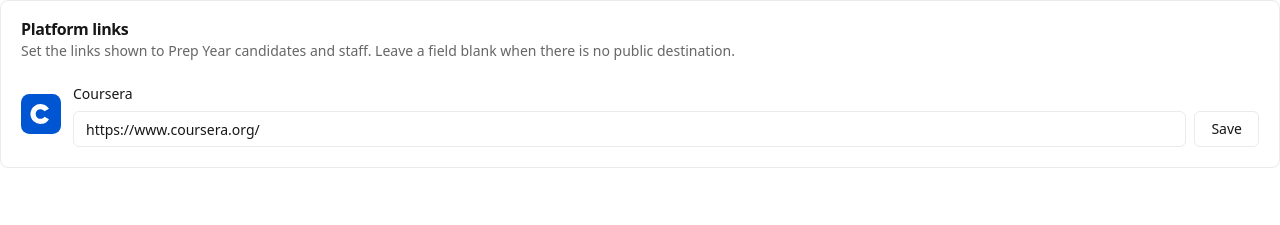
Test case: PlatformLinksEditor › lets a staff admin update a platform link
Replace the text in the field labelled "Coursera" with "https://learn.example.org/" at (630, 129), box [73,111,1186,147]
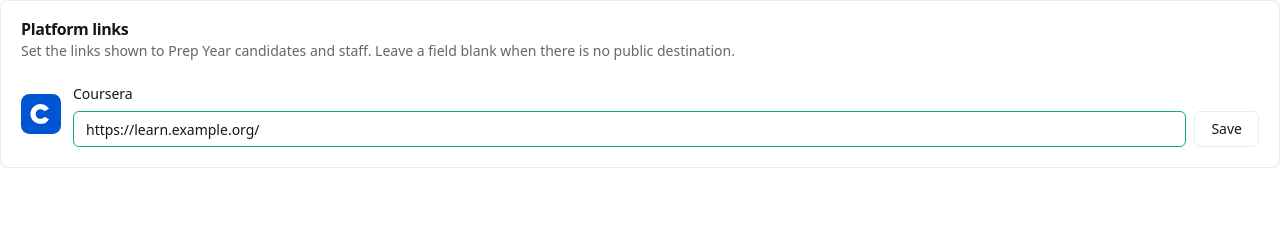
Click the button with aria-label "Save Coursera link".
click(1227, 129)  # box [1194,111,1259,147]
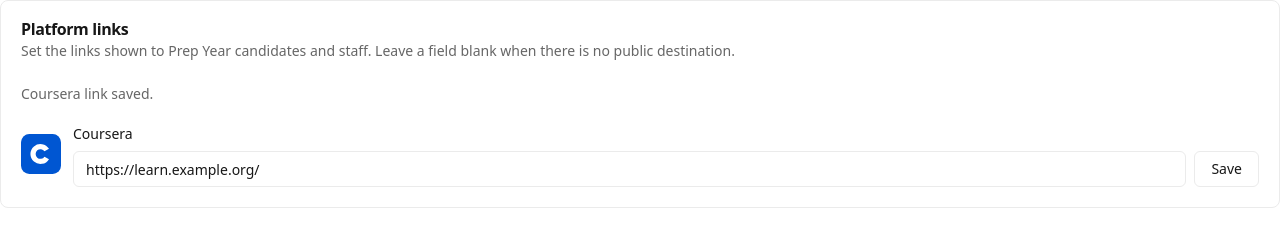
Check: the text "Coursera link saved." is shown, box [21,84,153,103]
